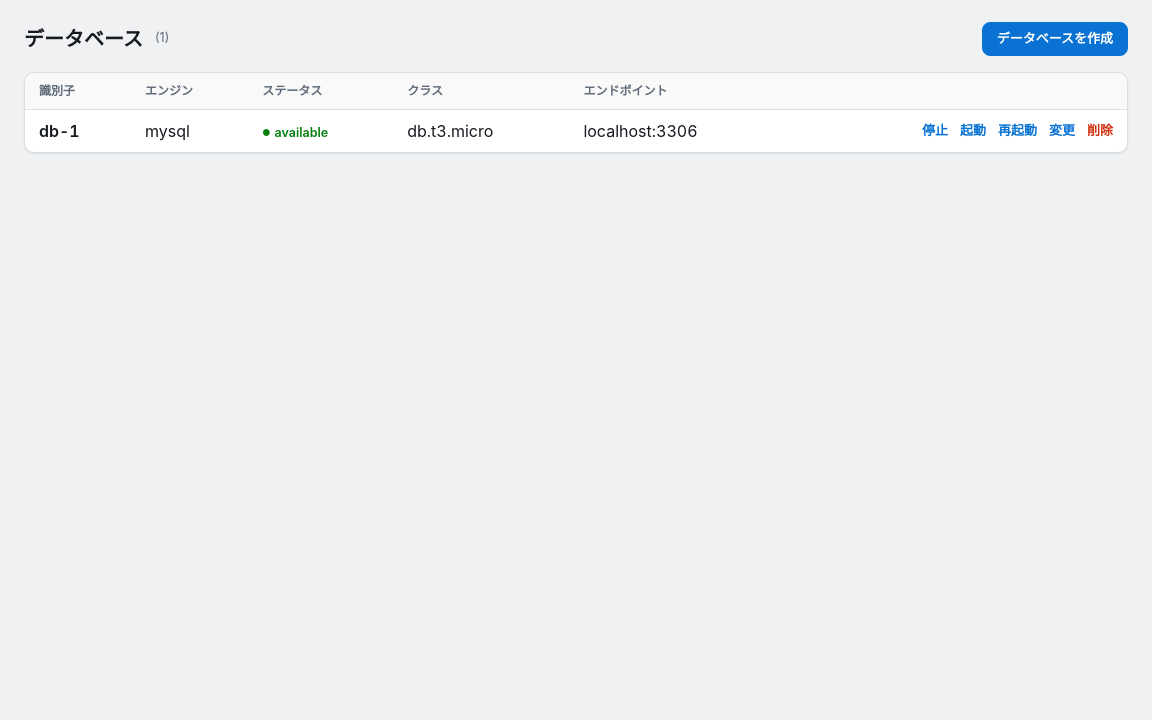
Test case: InstancesPage create failure (R35) › shows a normal error banner, not the unsupported banner
expect the text "db-1" is shown: met, box [39,120,80,140]
Step 1. Click the button with test id "instances-create" → click(1055, 39), box [982,22,1128,56]
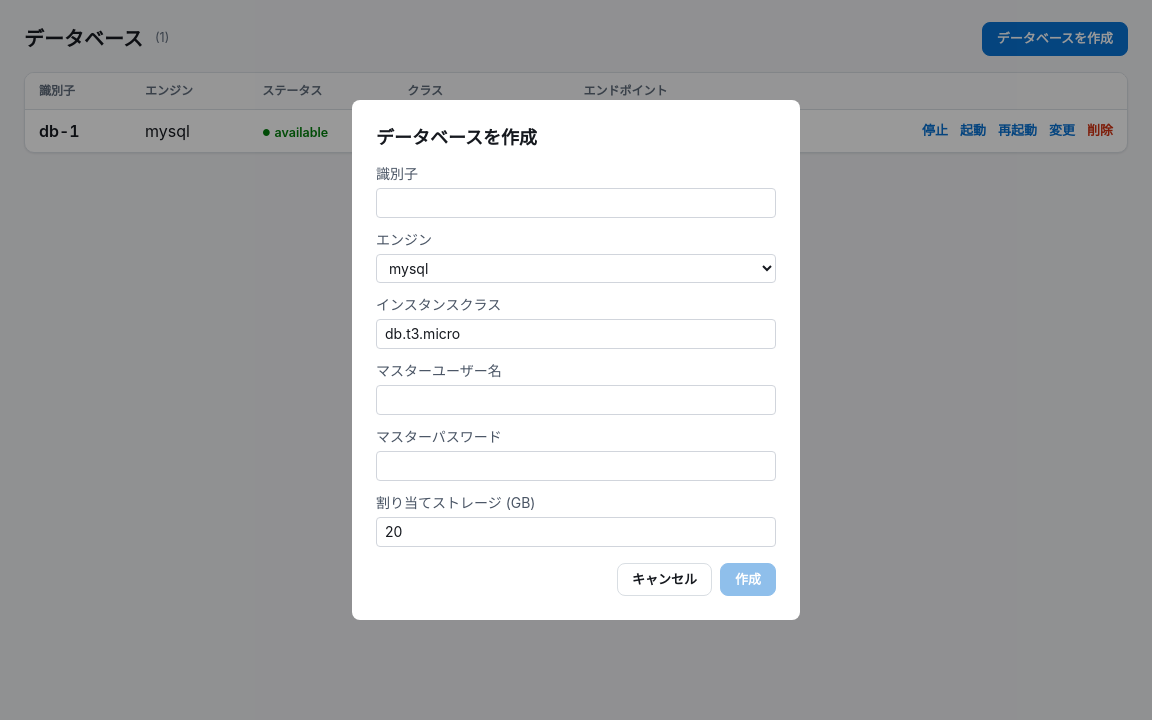
Step 2. Type "new-db" into the field with test id "i-id" → (576, 203), box [376,188,776,218]
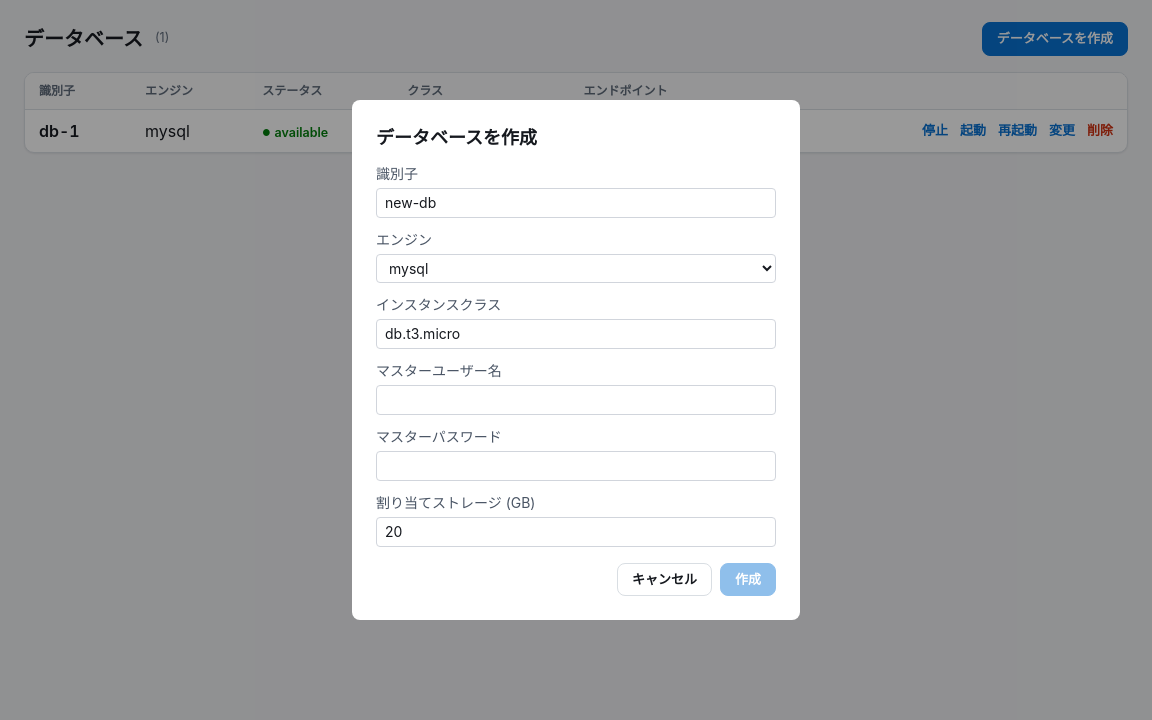
Step 3. Type "admin" into the field with test id "i-username" → (576, 400), box [376,385,776,415]
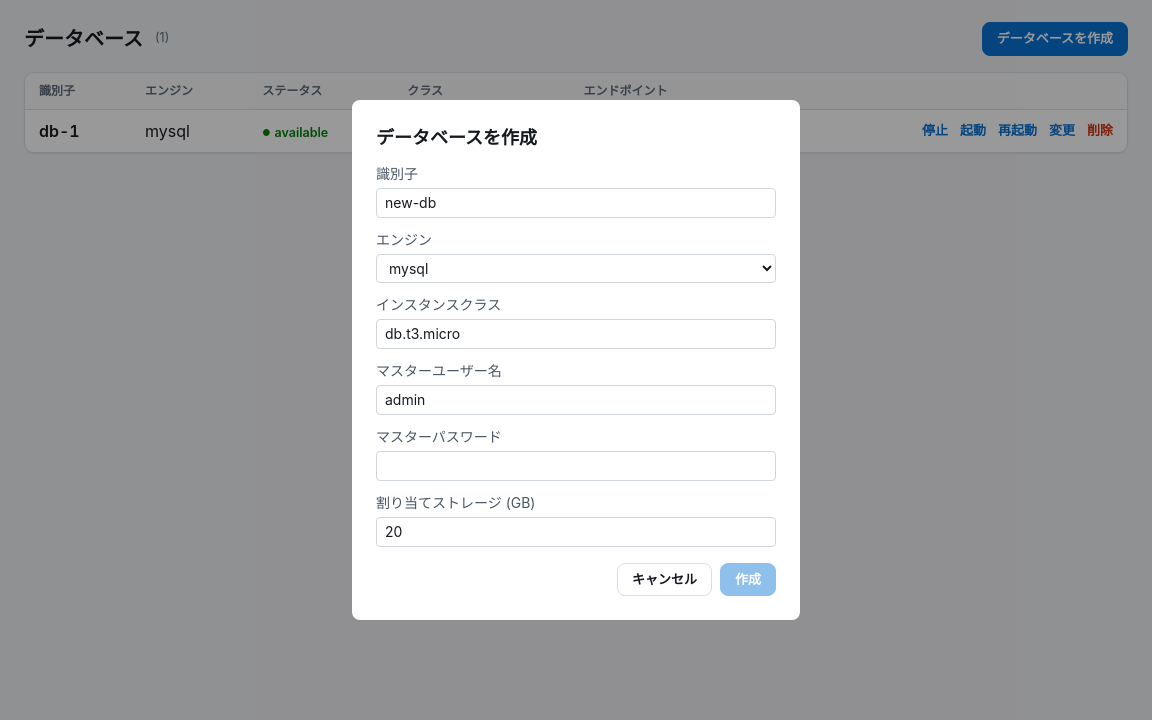
Step 4. Type "password123" into the password field with test id "i-password" → (576, 466), box [376,451,776,481]
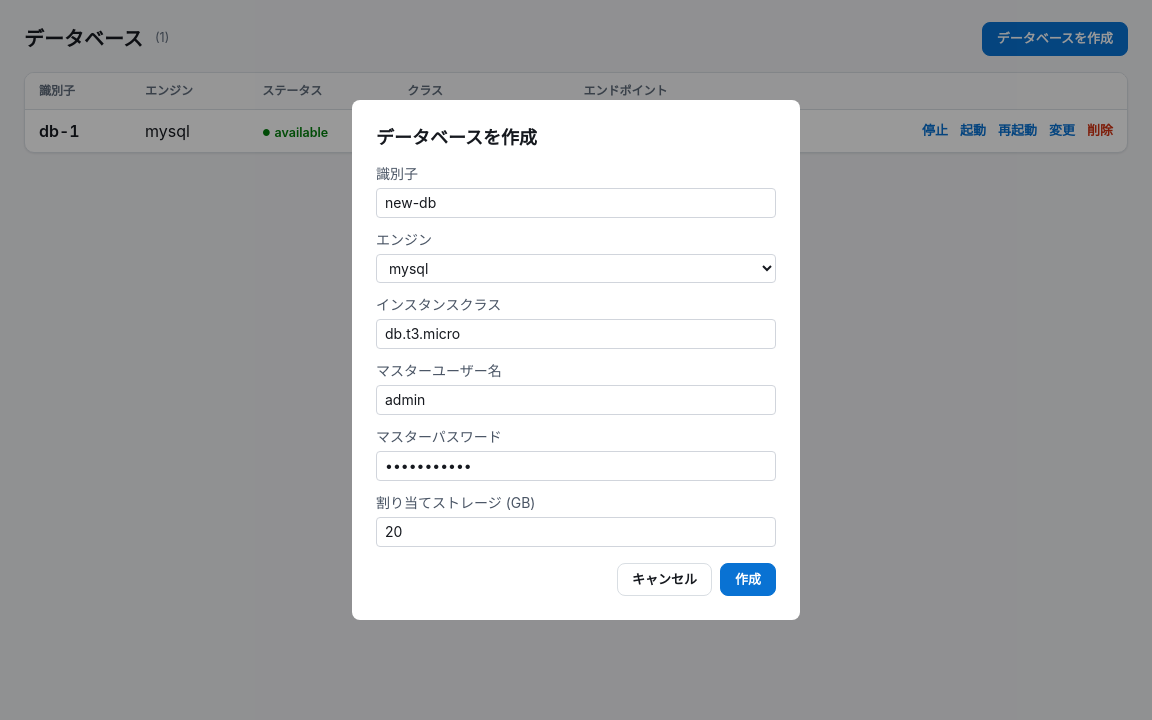
Step 5. Click the button with test id "i-save" → click(748, 580), box [720,563,776,596]
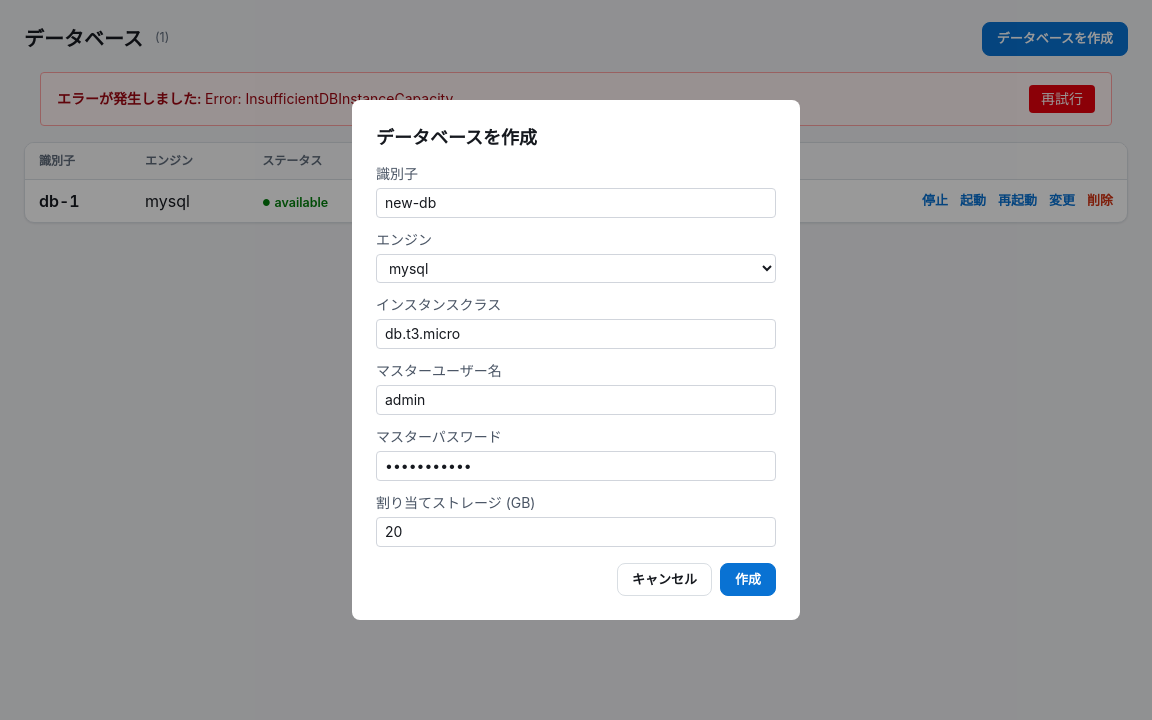
expect the text "db-1" is shown: met, box [39,190,80,210]
expect the element with test id "error-banner" is shown: met, box [40,72,1112,126]
